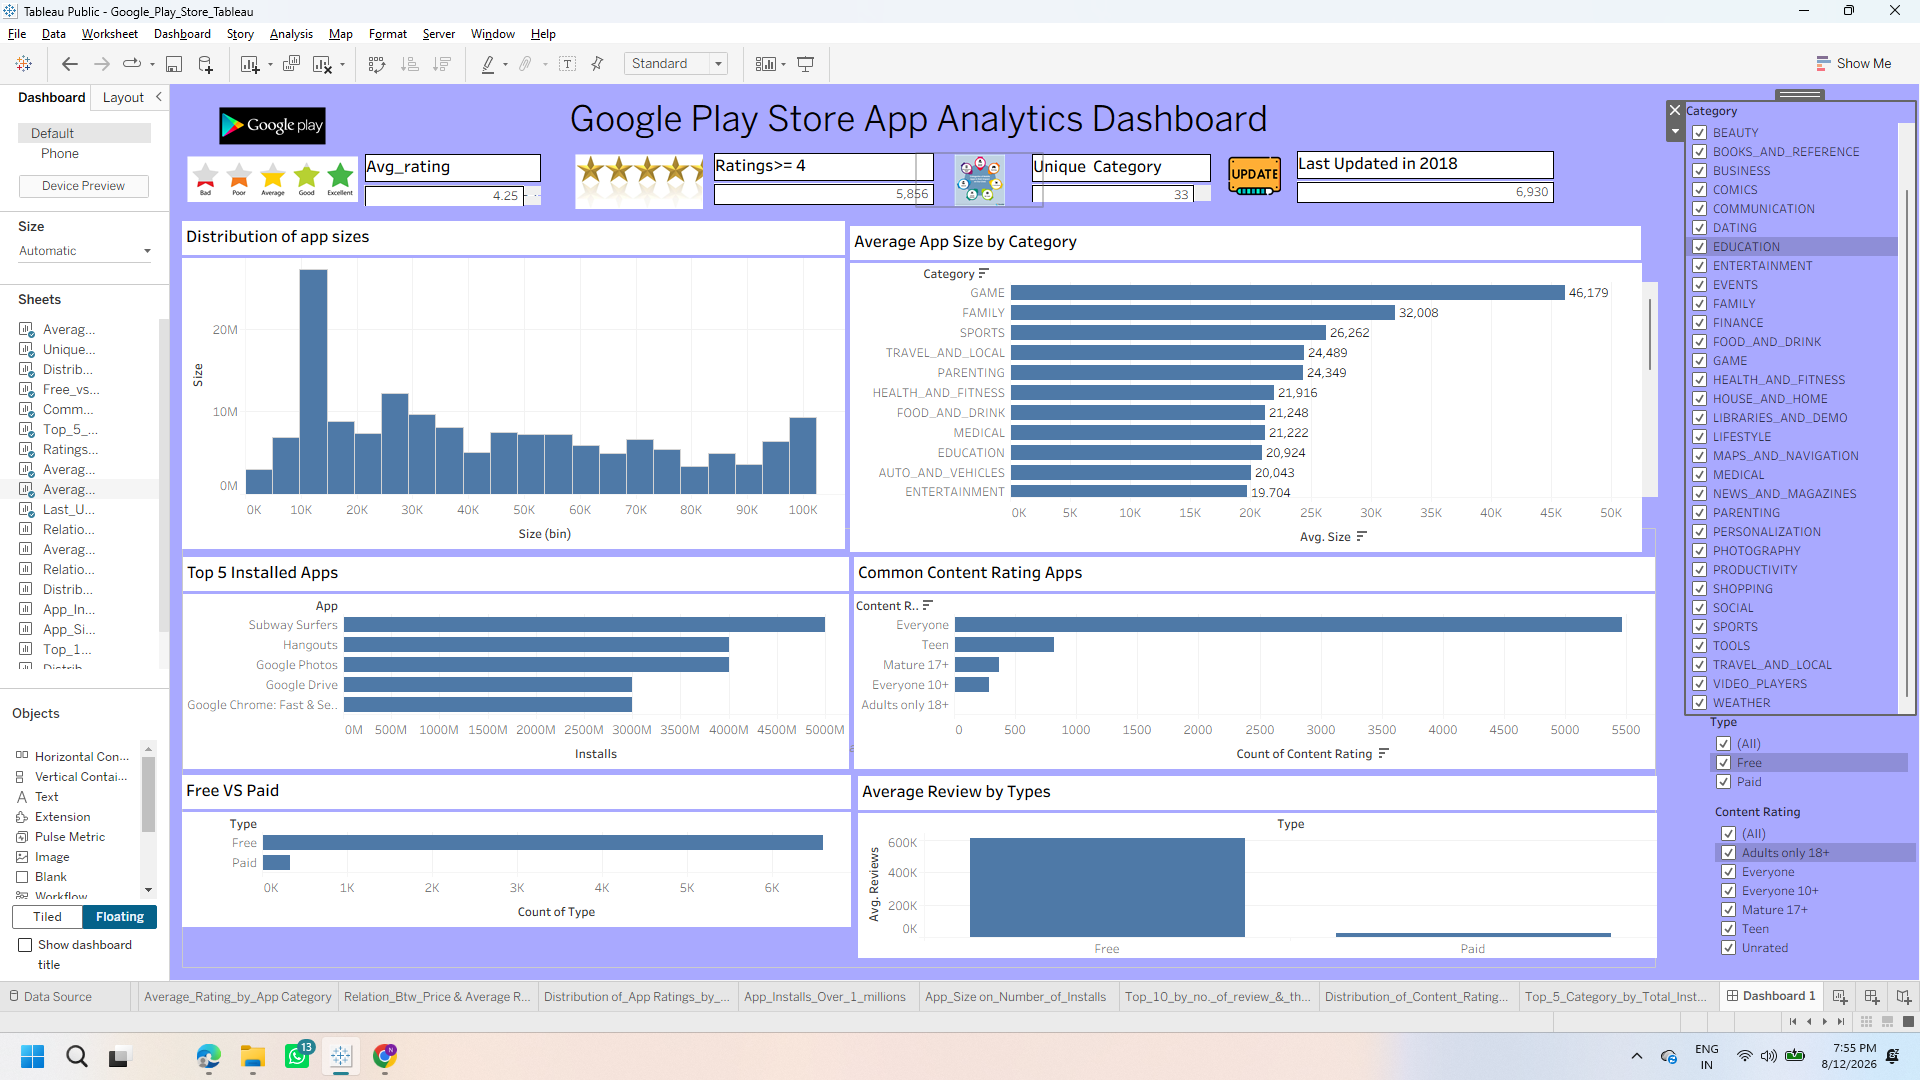

Layout of this report page (visuals, bound fields, positions):
{"tool":"tableau","page":{"name":"Dashboard 1","canvas":[1000,1000],"units":"permille","ordinal":0},"visuals":[{"type":"title","box":[4.7,8.9,847.3,58]},{"type":"filter","title":"Average_App_by_Category","param":"[federated.1939f800vxhslr1bvqydi06hdnke].[none:Category:nk]","box":[866.6,20.1,131.1,683]},{"type":"image","param":"C:/Users/sanju/OneDrive/Desktop/Jobaaj_projects/POWER_BI/Google Play Store_Data/","box":[4.7,67,847.3,93.4]},{"type":"image","param":"C:/Users/sanju/OneDrive/Desktop/Jobaaj_projects/POWER_BI/Google Play Store_Data/","box":[10,72.5,97.7,67]},{"type":"image","param":"C:/Users/sanju/OneDrive/Desktop/Jobaaj_projects/POWER_BI/Google Play Store_Data/","box":[569.9,72.5,100.6,59.1]},{"type":"worksheet","title":"Last_Updated in_2018","mark":"Automatic","box":[644.2,74.8,146.9,60.3]},{"type":"worksheet","title":"Ratings>=4","mark":"Automatic","box":[311.3,77,125.8,61.4]},{"type":"worksheet","title":"Average_Ratings","mark":"Automatic","box":[111.2,78.1,101.2,58]},{"type":"image","param":"C:/Users/sanju/OneDrive/Desktop/Jobaaj_projects/POWER_BI/Google Play Store_Data/","box":[216.5,78.1,103,61.4]},{"type":"image","param":"C:/Users/sanju/OneDrive/Desktop/Jobaaj_projects/POWER_BI/Google Play Store_Data/","box":[427.2,78.1,71.4,58]},{"type":"worksheet","title":"Unique_Category","mark":"Automatic","box":[492.7,78.1,102.4,53.6]},{"type":"worksheet","title":"Distribution_Size_of_Apps","mark":"Automatic","rows":["Size"],"cols":["Size (bin)"],"box":[7,152.9,379.2,366.1]},{"type":"worksheet","title":"Average_App_by_Category","mark":"Automatic","rows":["Category"],"cols":["Size"],"box":[388.5,158.5,462.3,363.8]},{"type":"image","param":"C:/Users/sanju/OneDrive/Desktop/Jobaaj_projects/POWER_BI/Google Play Store_Data/","box":[4.7,160.4,847.3,330.8]},{"type":"image","box":[4.7,491.1,847.3,500]},{"type":"worksheet","title":"Top_5_Installed_Apps","mark":"Automatic","rows":["App"],"cols":["Installs"],"box":[7.6,527.9,380.9,260]},{"type":"worksheet","title":"Common_Content_Rating","mark":"Automatic","rows":["Content Rating"],"cols":["Content Rating"],"box":[390.9,527.9,458.2,236.6]},{"type":"filter","title":"Free_vs_Paid","param":"[federated.1939f800vxhslr1bvqydi06hdnke].[none:Type:nk]","box":[880.6,702,112.9,90.4]},{"type":"worksheet","title":"Free_vs_Paid","mark":"Automatic","rows":["Type"],"cols":["Type"],"box":[7,771.2,382.7,215.4]},{"type":"worksheet","title":"Average_Review_by_Types","mark":"Automatic","rows":["Reviews"],"cols":["Type"],"box":[393.2,772.3,457,203.1]},{"type":"filter","title":"Common_Content_Rating","param":"[federated.1939f800vxhslr1bvqydi06hdnke].[none:Content Rating:nk]","box":[883.6,802.5,114.7,175.2]}]}

Visuals, with their boxes on the dashboard's canvas, which has no fixed pixel size, in thousandths of its width and height (x1, y1, x2, y2). These are canvas units, not pixel positions in the 1920x1080 screenshot, which may show the page scaled, cropped or inside an application window:
title: BBox(5, 9, 852, 67)
"Average_App_by_Category" filter: BBox(867, 20, 998, 703)
image: BBox(5, 67, 852, 160)
image: BBox(10, 72, 108, 140)
image: BBox(570, 72, 670, 132)
"Last_Updated in_2018" worksheet: BBox(644, 75, 791, 135)
"Ratings>=4" worksheet: BBox(311, 77, 437, 138)
"Average_Ratings" worksheet: BBox(111, 78, 212, 136)
image: BBox(216, 78, 320, 140)
image: BBox(427, 78, 499, 136)
"Unique_Category" worksheet: BBox(493, 78, 595, 132)
"Distribution_Size_of_Apps" worksheet: BBox(7, 153, 386, 519)
"Average_App_by_Category" worksheet: BBox(388, 158, 851, 522)
image: BBox(5, 160, 852, 491)
image: BBox(5, 491, 852, 991)
"Top_5_Installed_Apps" worksheet: BBox(8, 528, 388, 788)
"Common_Content_Rating" worksheet: BBox(391, 528, 849, 764)
"Free_vs_Paid" filter: BBox(881, 702, 994, 792)
"Free_vs_Paid" worksheet: BBox(7, 771, 390, 987)
"Average_Review_by_Types" worksheet: BBox(393, 772, 850, 975)
"Common_Content_Rating" filter: BBox(884, 802, 998, 978)
